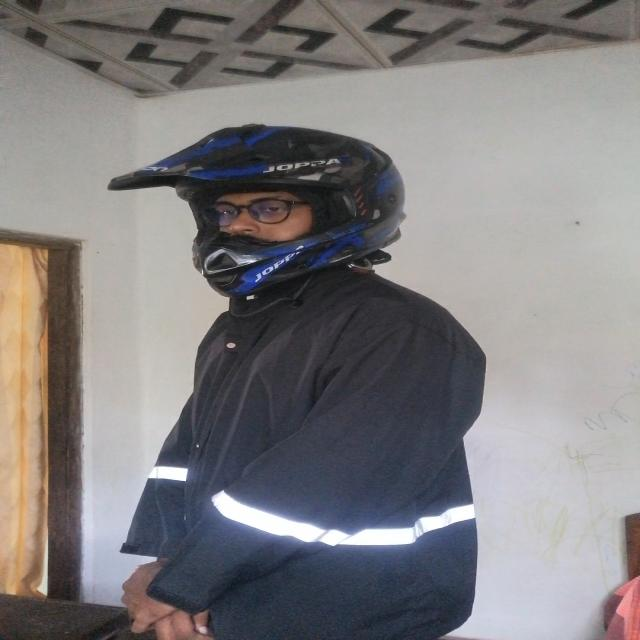Helmet_Wearer: (106, 117, 402, 281)
Jacket_Wearer: (106, 267, 487, 640)
Person: (110, 121, 493, 640)
